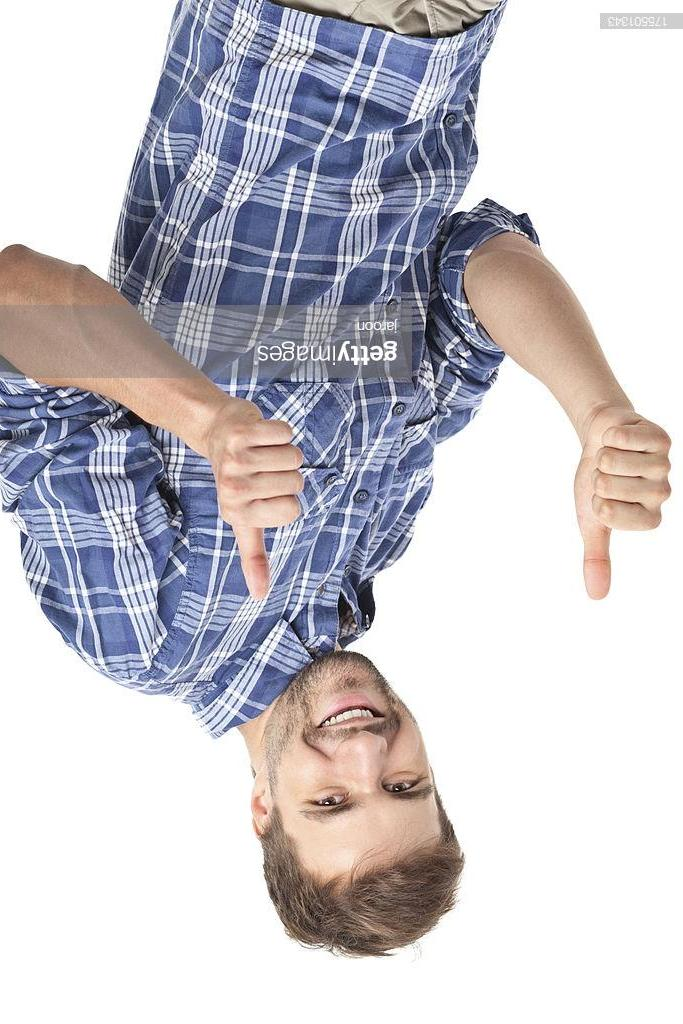thumbsdown: (576, 422, 673, 601), (214, 417, 306, 602)
